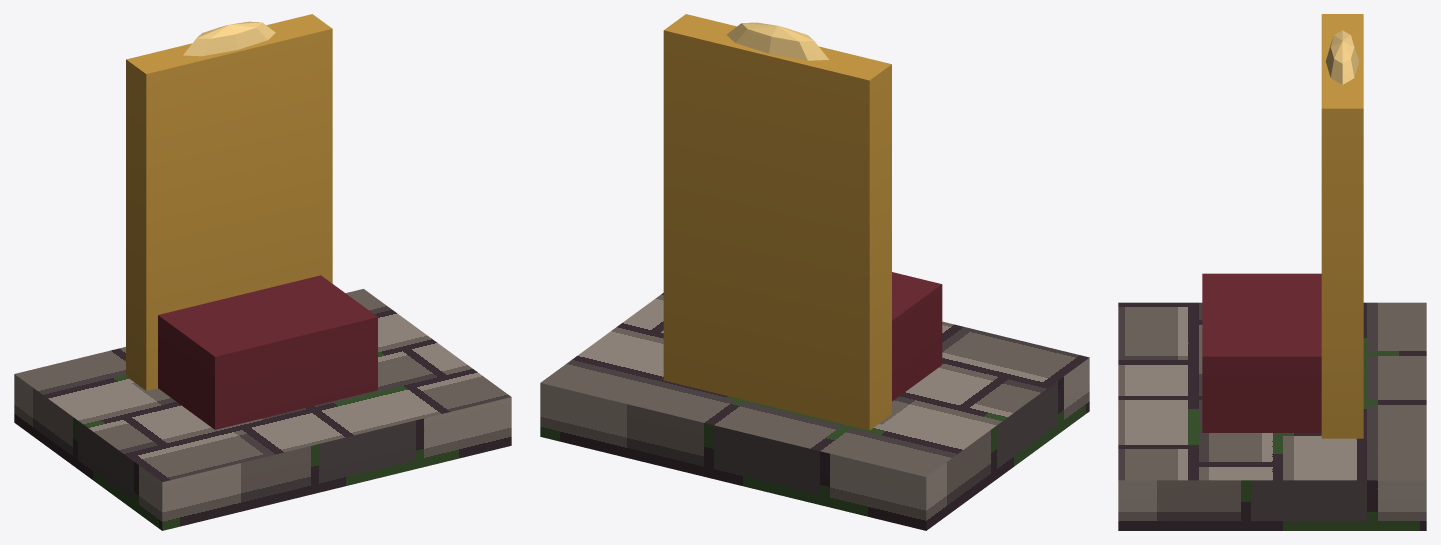
Rendered from high_seat.glb.
3 renders of one model, left to right at view 1: azimuth 30°, elevation 25°; view 2: azimuth 150°, elevation 25°; view 3: azimuth 270°, elevation 25°, orthographic. The views are drawn at different scales.
Parts seen in each view (by area): view 1: high_seat; view 2: high_seat; view 3: high_seat.
Part boxes in pixels (<box>): high_seat: <box>14,14,511,530</box>; high_seat: <box>540,14,1089,530</box>; high_seat: <box>1118,14,1426,530</box>.
Size of the model in its own units: 3 by 3.16 by 2.2.
2 materials, 1 textured.
